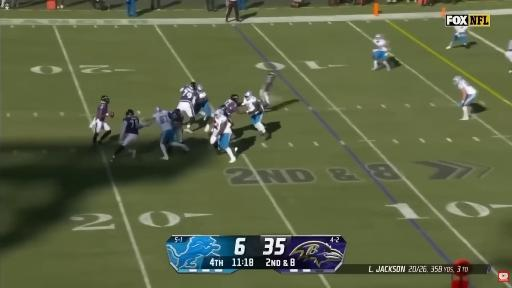Helmet: (214, 109, 224, 119), (453, 76, 462, 84), (230, 94, 239, 102), (101, 96, 109, 103), (245, 91, 252, 99), (173, 109, 181, 116), (190, 82, 197, 90), (197, 84, 203, 93), (126, 110, 134, 116), (374, 34, 383, 39), (219, 104, 226, 110), (155, 107, 162, 112), (269, 72, 275, 77)
Jersey: (153, 111, 172, 131), (180, 86, 197, 105), (215, 115, 231, 135), (246, 97, 263, 114), (124, 116, 139, 134), (457, 80, 476, 94), (96, 102, 108, 122), (224, 99, 237, 117), (262, 74, 275, 92), (170, 113, 183, 129), (374, 39, 387, 51), (243, 96, 257, 105), (455, 26, 468, 35), (199, 92, 208, 102), (507, 40, 511, 51)
Player: (153, 108, 189, 159), (111, 110, 143, 161), (210, 110, 237, 162), (243, 92, 269, 139), (90, 96, 113, 144), (177, 82, 197, 133), (454, 76, 477, 120), (195, 84, 213, 131), (171, 109, 188, 151), (372, 34, 390, 71), (260, 72, 275, 108), (446, 26, 469, 49), (224, 95, 239, 119), (505, 40, 511, 62)
